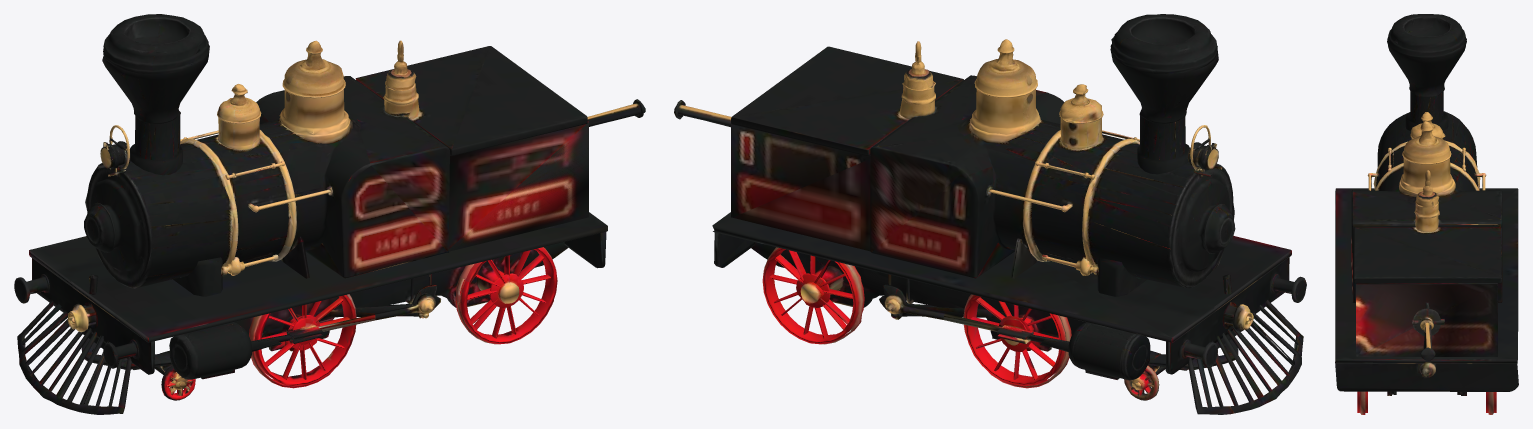
File: locomotive.glb
3 renders of one model, left to right at view 1: azimuth 30°, elevation 25°; view 2: azimuth 150°, elevation 25°; view 3: azimuth 270°, elevation 25°, orthographic. The views are drawn at different scales.
Bounding box in the file's own units: 0.9521 × 0.5405 × 0.3326.
1 material, 1 textured.
